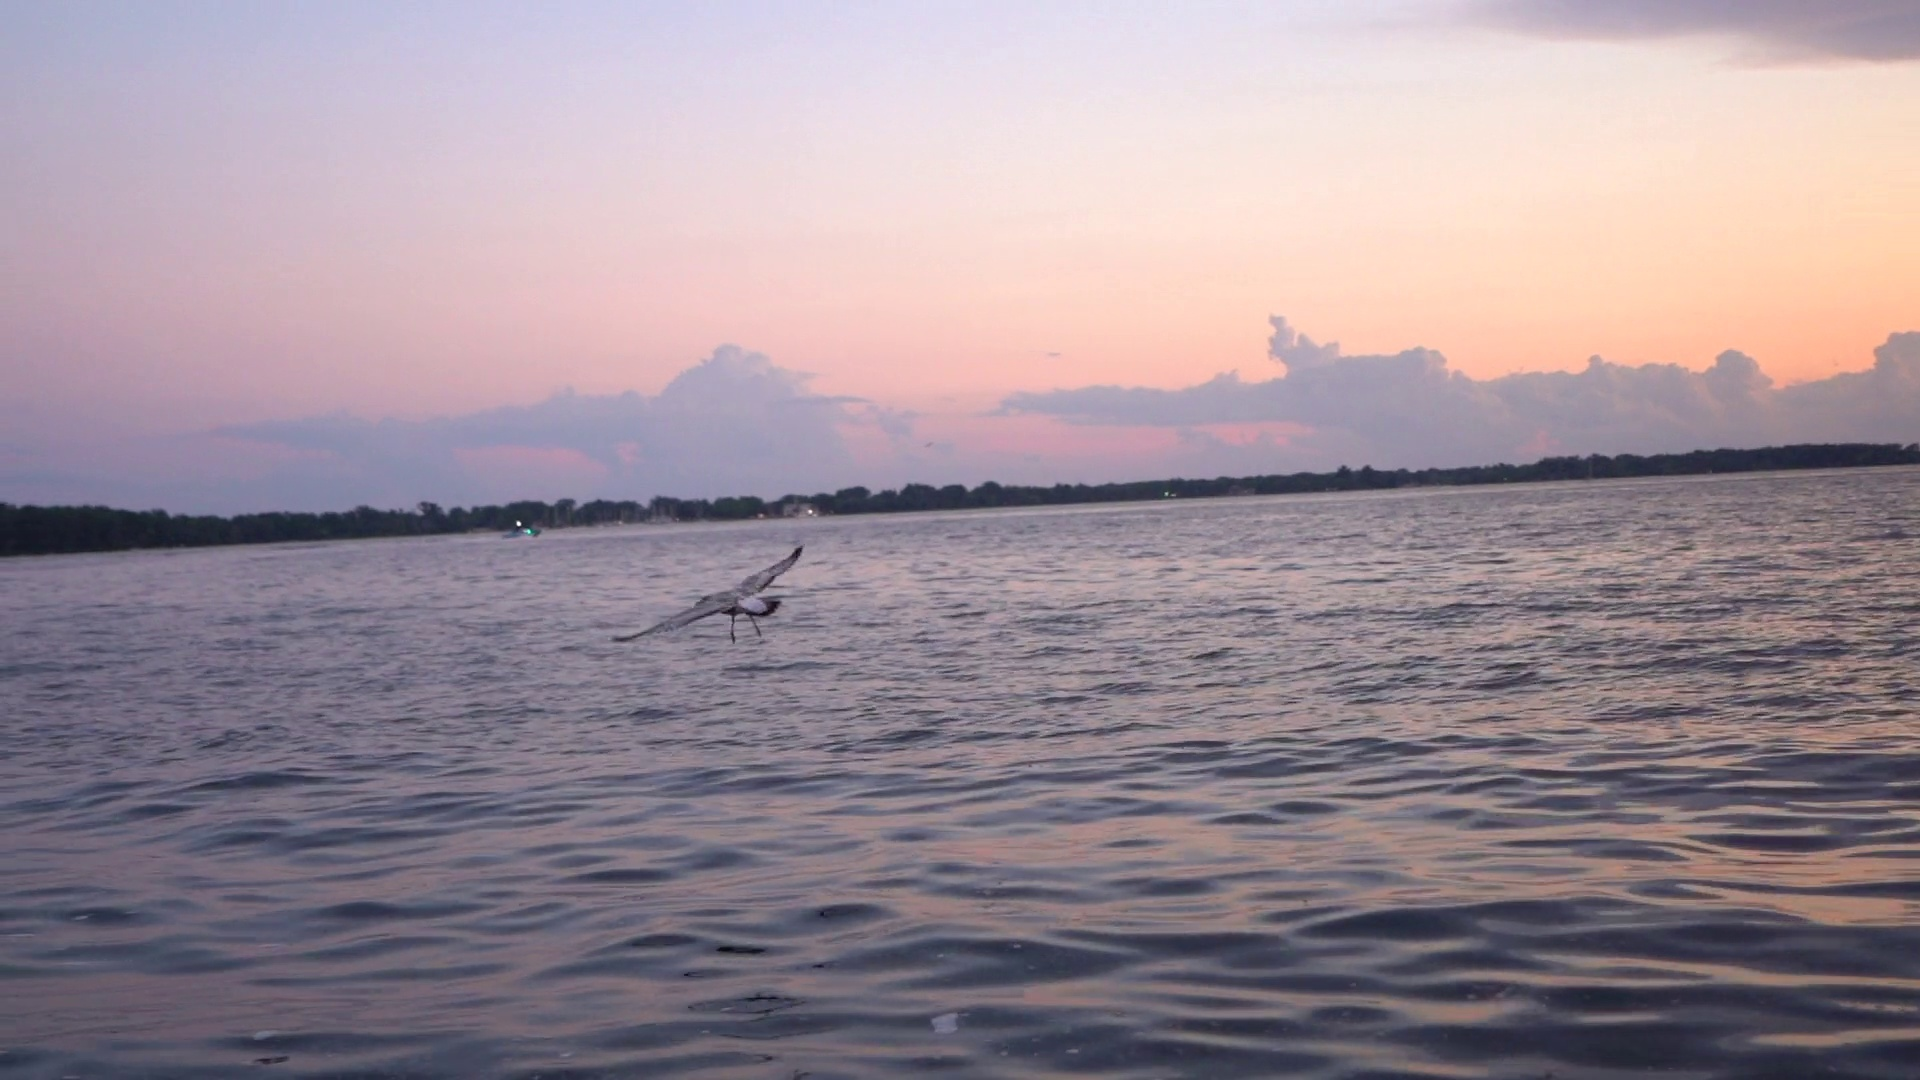bird: (613, 547, 804, 642)
